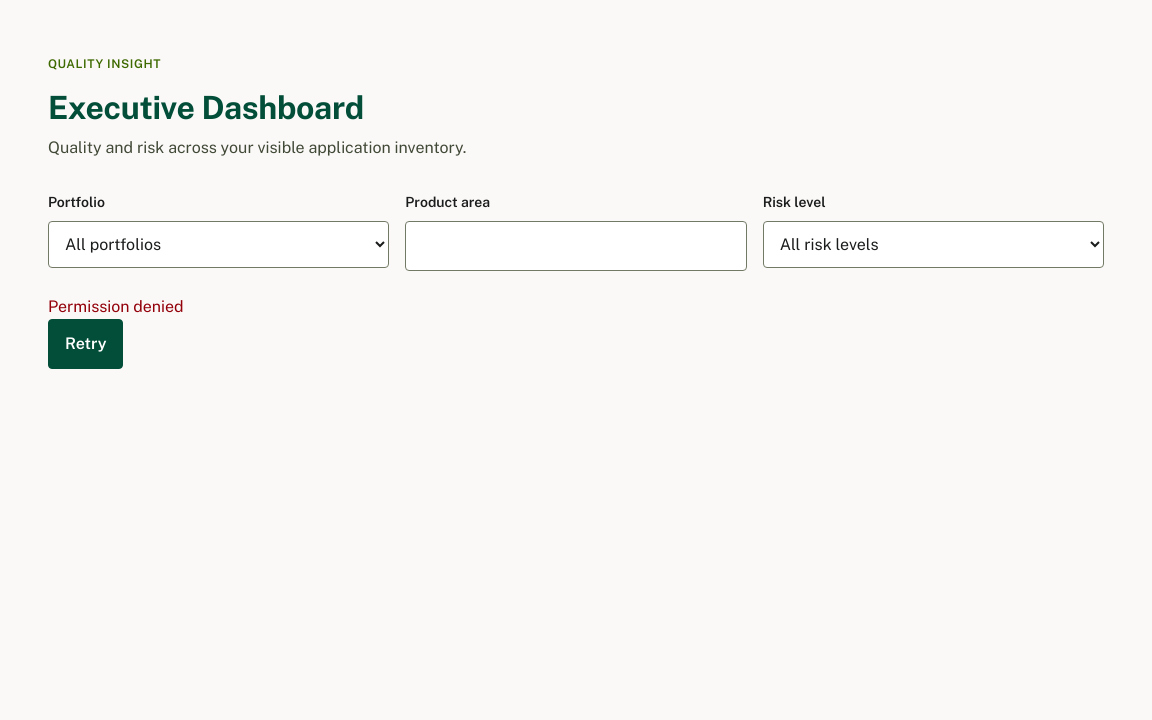
Scenario: executive dashboard › displays errors, retries and describes an empty result
The width and height of the screenshot is (1152, 720).
Expected: the message shows "Permission denied", [48, 297, 184, 316]
Click the button "Retry".
click(86, 344)  # box [48, 319, 124, 369]
(page scrolled)
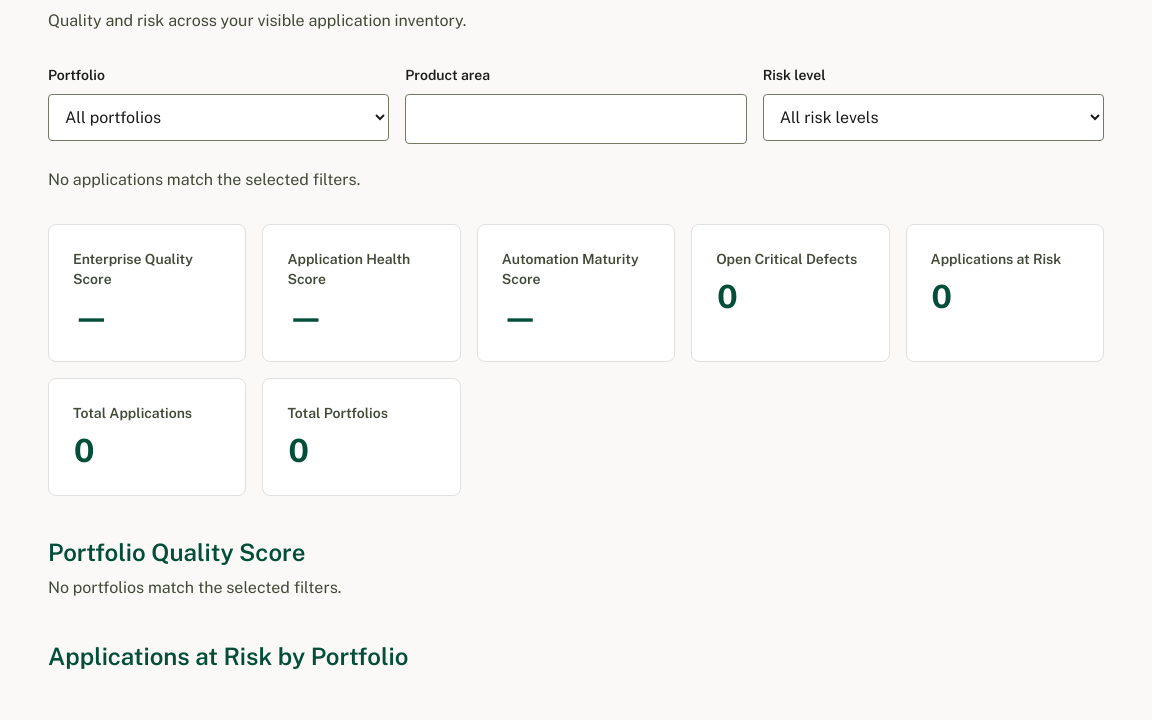
Expected: the text "No applications match the selected filters." is shown, [48, 170, 360, 189]
Expected: the text "No portfolios match the selected filters." is shown, [48, 578, 341, 597]
